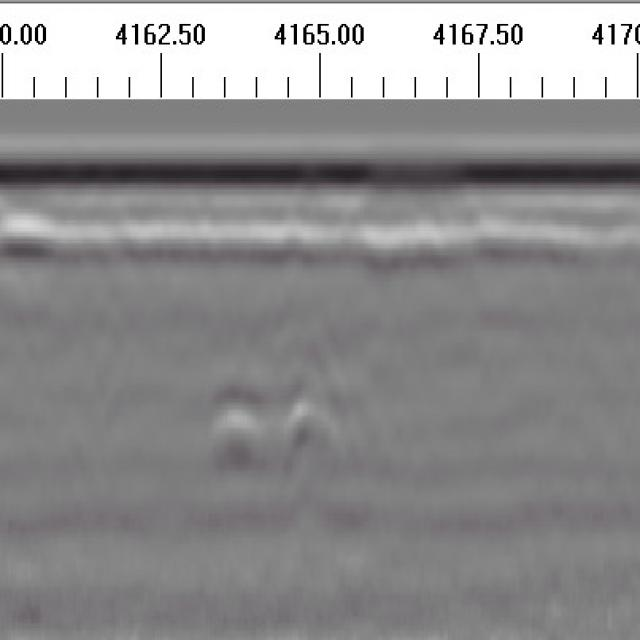loose: (205, 384, 351, 484)
